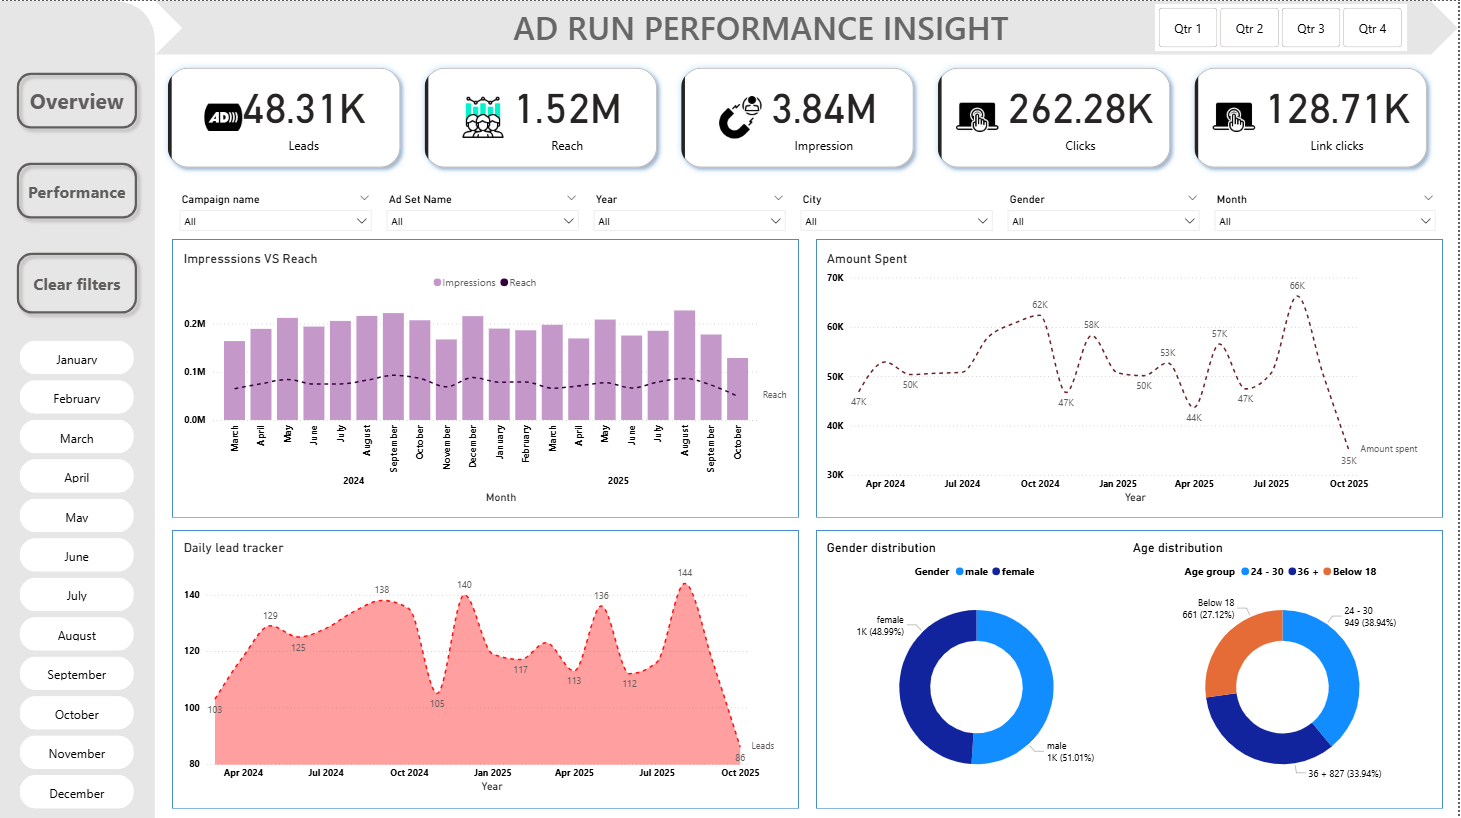

The dashboard page shown, as its layout file describes it:
{"tool":"powerbi","page":{"name":"Overview","canvas":[1920,1080],"ordinal":0},"visuals":[{"type":"shape","box":[203.8,0,1716.2,70.9],"z":0},{"type":"cardVisual","fields":{"Data":["Sum(Marketing Analytics - Ads_data_with_cities.Results)","Marketing Analytics - Ads_data_with_cities.ReachM","Marketing Analytics - Ads_data_with_cities.ImpressionsM","Marketing Analytics - Ads_data_with_cities.Clicks","Sum(Marketing Analytics - Ads_data_with_cities.Link clicks)"]},"box":[204.1,71.1,1696.4,166],"z":1000},{"type":"shape","box":[0,0,204.1,1080],"z":2000},{"type":"textbox","box":[670.6,0,663.8,71.3],"z":3000},{"type":"advancedSlicerVisual","fields":{"Values":["Marketing Analytics - Ads_data_with_cities.Day.Variation.Date Hierarchy.Quarter"]},"box":[1521.2,4.4,332.3,62],"z":4000},{"type":"slicer","fields":{"Values":["Marketing Analytics - Ads_data_with_cities.Campaign name"]},"box":[226.5,247.6,272.6,65.9],"z":5000},{"type":"slicer","fields":{"Values":["Marketing Analytics - Ads_data_with_cities.Ad Set Name"]},"box":[499.2,247.6,272.6,65.9],"z":6000},{"type":"slicer","fields":{"Values":["Marketing Analytics - Ads_data_with_cities.Day.Variation.Date Hierarchy.Year"]},"box":[771.8,247.6,272.6,65.9],"z":7000},{"type":"slicer","fields":{"Values":["Marketing Analytics - Ads_data_with_cities.City"]},"box":[1044.4,247.6,272.6,65.9],"z":8000},{"type":"slicer","fields":{"Values":["Marketing Analytics - Ads_data_with_cities.Gender"]},"box":[1317.1,247.6,272.6,65.9],"z":9000},{"type":"slicer","fields":{"Values":["Marketing Analytics - Ads_data_with_cities.Day.Variation.Date Hierarchy.Month"]},"box":[1589.7,247.6,310.8,65.9],"z":10000},{"type":"shape","box":[226.5,313.5,825.8,367.5],"z":11000},{"type":"shape","box":[1074.7,313.5,825.8,367.5],"z":12000},{"type":"shape","box":[226.5,696.7,825.8,367.5],"z":13000},{"type":"shape","box":[1074.7,696.7,825.8,367.5],"z":14000},{"type":"lineStackedColumnComboChart","title":"Impresssions VS Reach","fields":{"Category":["Marketing Analytics - Ads_data_with_cities.Day.Variation.Date Hierarchy.Year","Marketing Analytics - Ads_data_with_cities.Day.Variation.Date Hierarchy.Month"],"Y2":["Marketing Analytics - Ads_data_with_cities.ReachM"],"Y":["Marketing Analytics - Ads_data_with_cities.ImpressionsM"]},"box":[237.2,328.6,807,337.9],"z":15000},{"type":"lineChart","title":"Daily lead tracker","fields":{"Category":["Marketing Analytics - Ads_data_with_cities.Day.Variation.Date Hierarchy.Year","Marketing Analytics - Ads_data_with_cities.Day.Variation.Date Hierarchy.Month"],"Y":["Marketing Analytics - Ads_data_with_cities.Leads"]},"box":[237.2,710.2,807,337.9],"z":16000},{"type":"lineChart","title":"Amount Spent","fields":{"Category":["Marketing Analytics - Ads_data_with_cities.Day.Variation.Date Hierarchy.Year","Marketing Analytics - Ads_data_with_cities.Day.Variation.Date Hierarchy.Month"],"Y":["Sum(Marketing Analytics - Ads_data_with_cities.Amount spent (INR))"]},"box":[1083.9,328.6,807,337.9],"z":17000},{"type":"donutChart","title":"Gender distribution","fields":{"Category":["Marketing Analytics - Ads_data_with_cities.Gender"],"Y":["Marketing Analytics - Ads_data_with_cities.Leads"]},"box":[1083.9,710.2,404.1,337.9],"z":18000},{"type":"donutChart","title":"Age distribution","fields":{"Y":["Marketing Analytics - Ads_data_with_cities.Leads"],"Category":["Marketing Analytics - Ads_data_with_cities.Age group"]},"box":[1486.7,710.2,404.1,337.9],"z":19000},{"type":"actionButton","box":[13.3,85.5,176.2,91.4],"z":20000},{"type":"actionButton","box":[13.3,204.1,176.2,91.4],"z":21000},{"type":"actionButton","box":[13.3,322.7,176.2,98.1],"z":22000},{"type":"advancedSlicerVisual","fields":{"Values":["Marketing Analytics - Ads_data_with_cities.Day.Variation.Date Hierarchy.Month"]},"box":[21.2,442.6,160.3,637.3],"z":23000}]}

Visuals, with their boxes in screenshot pixels (x1, y1, x2, y2), scaled from the page's 1920x1080 canvas onto the 1461x818 screenshot:
shape: rect(155, 0, 1460, 54)
cardVisual - Sum(Marketing Analytics - Ads_data_with_cities.Results) x Marketing Analytics - Ads_data_with_cities.ReachM: rect(155, 54, 1446, 180)
shape: rect(0, 0, 155, 817)
textbox: rect(510, 0, 1015, 54)
advancedSlicerVisual - Marketing Analytics - Ads_data_with_cities.Day.Variation.Date Hierarchy.Quarter: rect(1158, 3, 1410, 50)
slicer - Marketing Analytics - Ads_data_with_cities.Campaign name: rect(172, 188, 380, 237)
slicer - Marketing Analytics - Ads_data_with_cities.Ad Set Name: rect(380, 188, 587, 237)
slicer - Marketing Analytics - Ads_data_with_cities.Day.Variation.Date Hierarchy.Year: rect(587, 188, 795, 237)
slicer - Marketing Analytics - Ads_data_with_cities.City: rect(795, 188, 1002, 237)
slicer - Marketing Analytics - Ads_data_with_cities.Gender: rect(1002, 188, 1210, 237)
slicer - Marketing Analytics - Ads_data_with_cities.Day.Variation.Date Hierarchy.Month: rect(1210, 188, 1446, 237)
shape: rect(172, 237, 801, 516)
shape: rect(818, 237, 1446, 516)
shape: rect(172, 528, 801, 806)
shape: rect(818, 528, 1446, 806)
"Impresssions VS Reach" lineStackedColumnComboChart: rect(180, 249, 795, 505)
"Daily lead tracker" lineChart: rect(180, 538, 795, 794)
"Amount Spent" lineChart: rect(825, 249, 1439, 505)
"Gender distribution" donutChart: rect(825, 538, 1132, 794)
"Age distribution" donutChart: rect(1131, 538, 1439, 794)
actionButton: rect(10, 65, 144, 134)
actionButton: rect(10, 155, 144, 224)
actionButton: rect(10, 244, 144, 319)
advancedSlicerVisual - Marketing Analytics - Ads_data_with_cities.Day.Variation.Date Hierarchy.Month: rect(16, 335, 138, 817)
